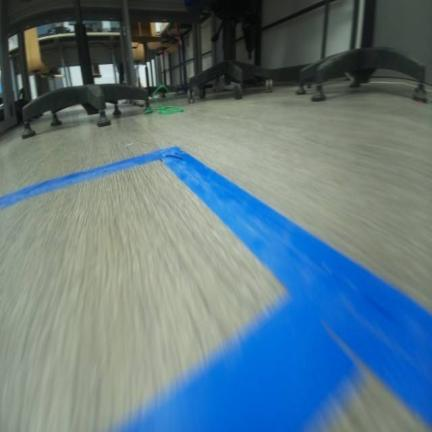place: (0, 145, 404, 431)
